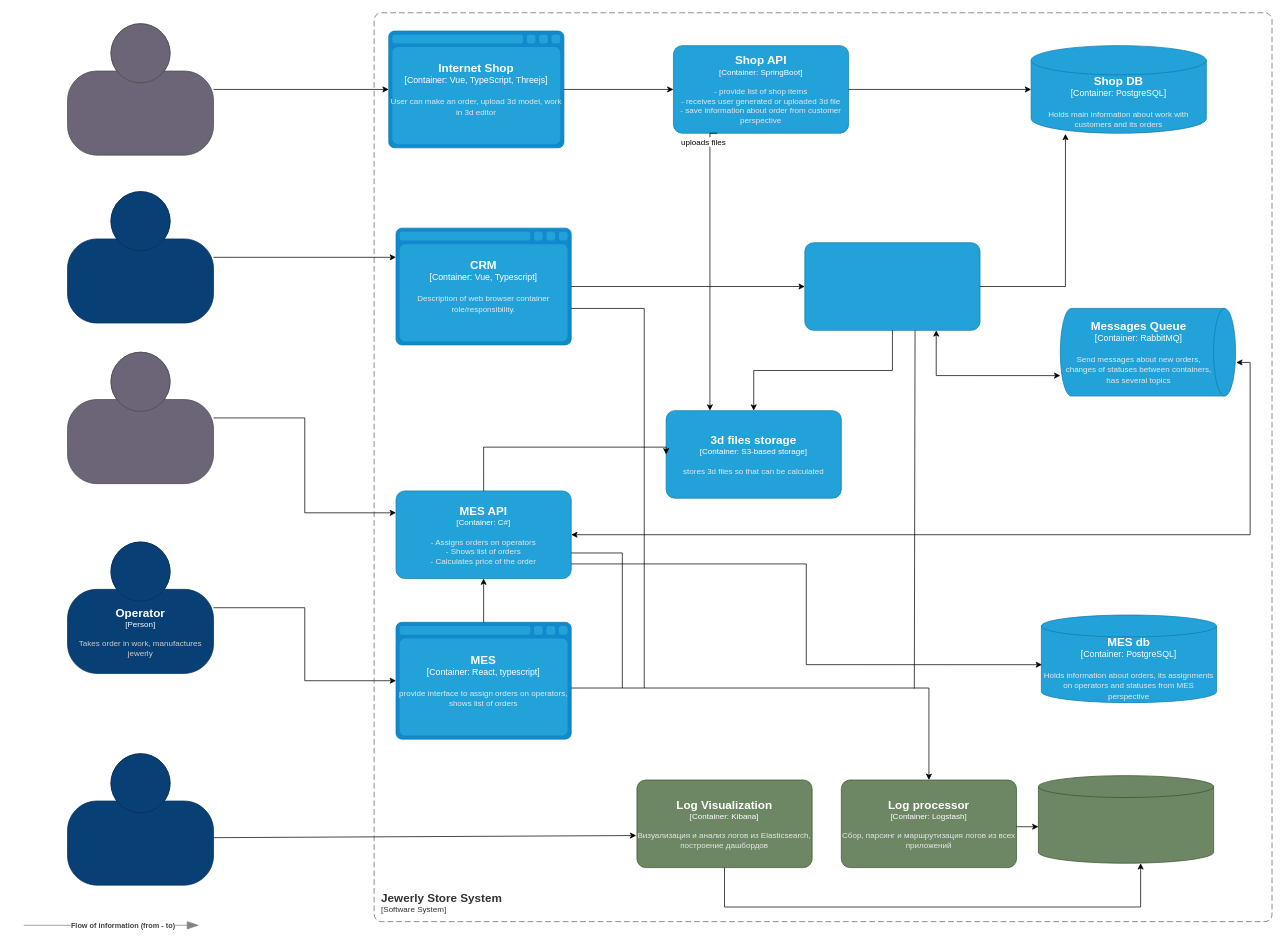
This 1285x950 diagram has some shape labels left out. Here are the shapes that lost their labels. From the top down, the box of each, then its label:
(67, 23, 214, 155): Customer [Person] Description of external person.
(67, 191, 214, 323): Seller [Person] Operates with order, confirms manufacturing for the user
(804, 242, 980, 330): CRM API [Container: SpringBoot] Description of container role/responsibility.
(67, 351, 214, 484): API user [Person] Description of external person.
(67, 753, 214, 885): SRE [Person] Uses monitoring system health, manages incidents
(1038, 775, 1214, 863): Log Storage [Container: ElasticSearch] Хранение, поиск и агрегация логов
